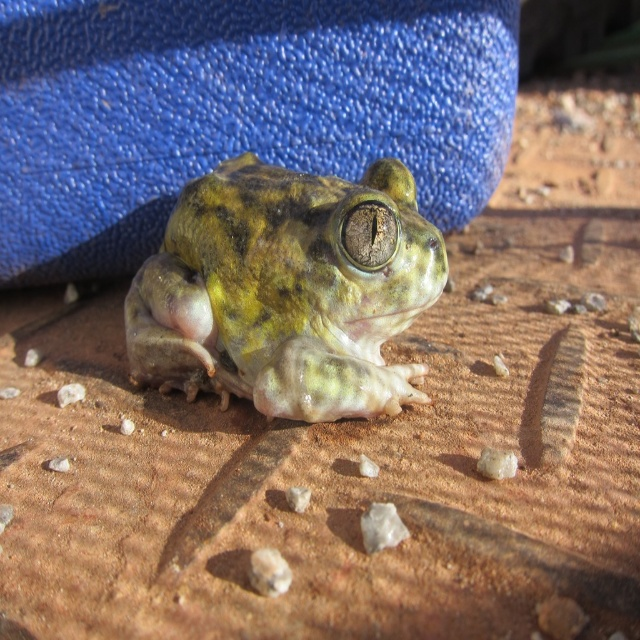Frog: (126, 157, 447, 423)
